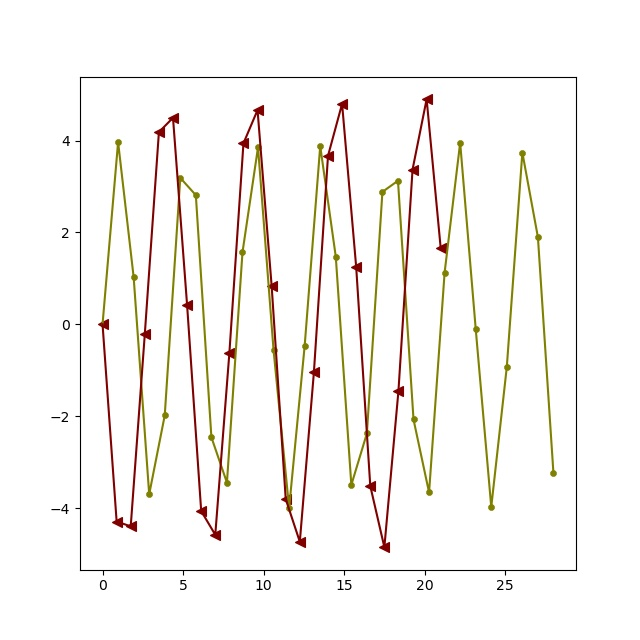octagon: (99, 320, 108, 329), (114, 138, 123, 147), (130, 273, 139, 282), (145, 490, 154, 499), (161, 411, 170, 420), (176, 174, 185, 183), (192, 191, 201, 200), (207, 433, 216, 442), (223, 479, 232, 488), (238, 248, 247, 257), (254, 143, 263, 152), (270, 346, 279, 355), (285, 504, 294, 513), (301, 342, 310, 351), (316, 142, 325, 151), (332, 253, 341, 262), (347, 481, 356, 490), (363, 429, 372, 438), (378, 188, 387, 197), (394, 177, 403, 186), (410, 415, 419, 424), (425, 488, 434, 497), (441, 269, 450, 278), (456, 139, 465, 148), (472, 325, 481, 334), (487, 503, 496, 512), (503, 363, 512, 372), (518, 149, 527, 158), (534, 233, 543, 242), (549, 469, 558, 478)
triangle_left: (97, 319, 109, 331), (111, 516, 123, 528), (125, 521, 137, 533), (139, 328, 151, 340), (153, 127, 165, 139), (168, 112, 180, 124), (182, 299, 194, 311), (196, 505, 208, 517), (210, 529, 222, 541), (224, 348, 236, 360), (238, 138, 250, 150), (252, 105, 264, 117), (266, 280, 278, 292), (280, 494, 292, 506), (294, 536, 306, 548), (308, 367, 320, 379), (323, 150, 335, 162), (337, 98, 349, 110), (351, 261, 363, 273), (365, 480, 377, 492), (379, 542, 391, 554), (393, 385, 405, 397), (407, 164, 419, 176), (421, 94, 433, 106), (435, 243, 447, 255)
